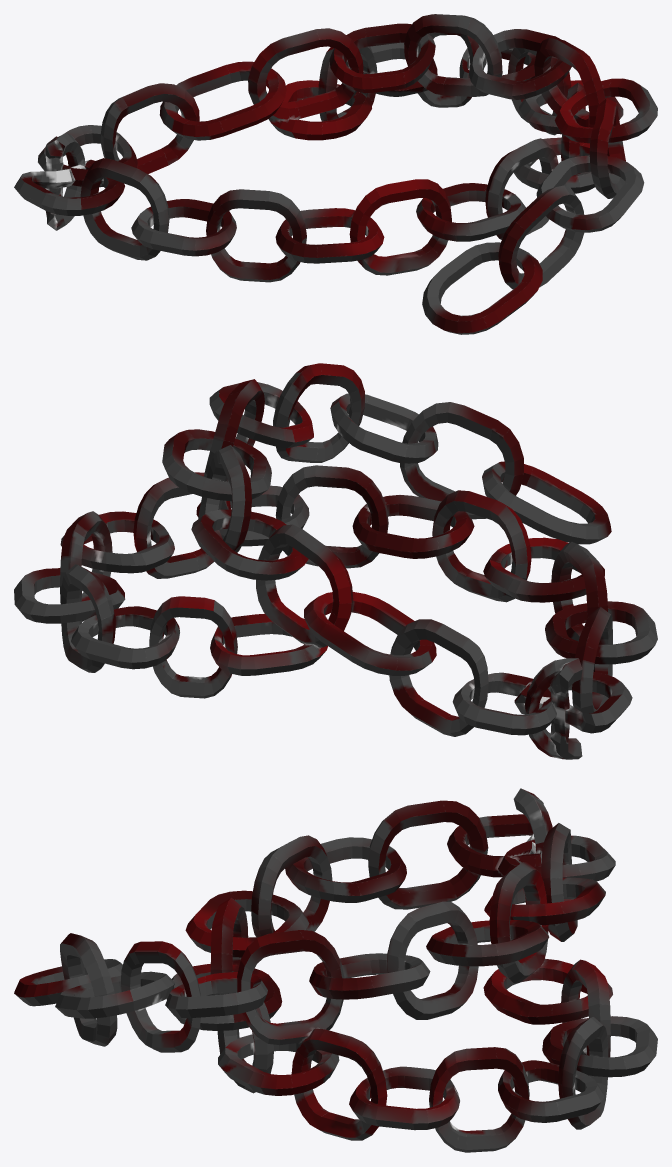
The model's file is CurledChain.fbx.
The picture shows the model from 3 angles, top to bottom: view 1: azimuth 30°, elevation 25°; view 2: azimuth 150°, elevation 25°; view 3: azimuth 270°, elevation 25°; orthographic projection. The views are drawn at different scales.
Visible parts, largest first — view 1: Torus.001; view 2: Torus.001; view 3: Torus.001.
Boxes of the visible parts, x1,y1,x2,y2 form: Torus.001: [14, 14, 657, 334]; Torus.001: [14, 363, 657, 759]; Torus.001: [14, 788, 657, 1152].
Size of the model in its own units: 1562 by 448 by 1403.
1 material, 1 textured.
